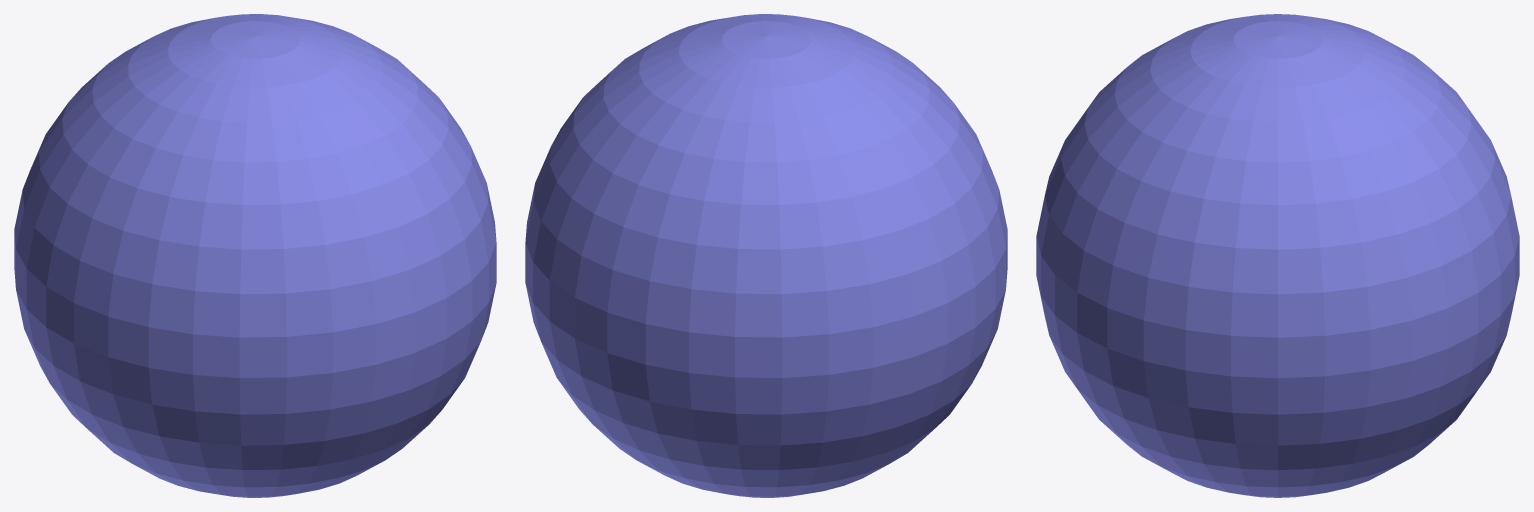
The model's file is discoteca.glb.
The picture shows the model from 3 angles, left to right: view 1: azimuth 30°, elevation 25°; view 2: azimuth 150°, elevation 25°; view 3: azimuth 270°, elevation 25°; orthographic projection.
Parts seen in each view (by area): view 1: discoteca; view 2: discoteca; view 3: discoteca.
Part boxes in pixels (bbox=[...]): discoteca: bbox=[14, 14, 496, 497]; discoteca: bbox=[525, 14, 1007, 497]; discoteca: bbox=[1036, 14, 1519, 497].
Size of the model in its own units: 1.99 by 2 by 1.99.
